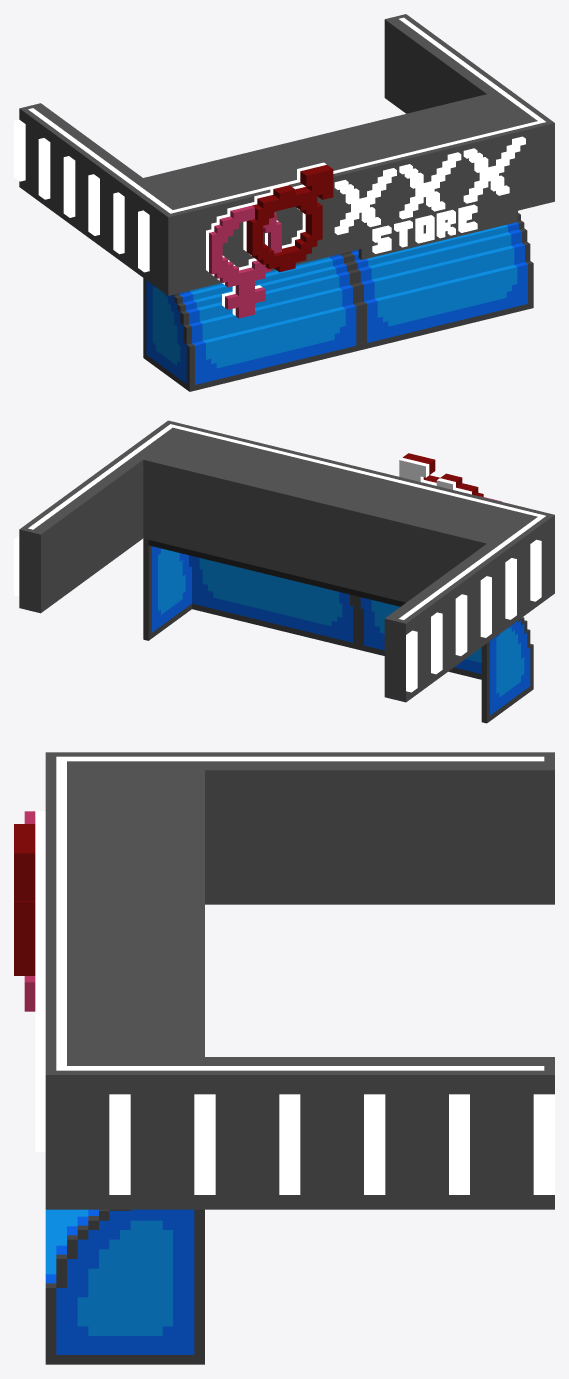
File: adultStore.glb
The picture shows the model from 3 angles, top to bottom: view 1: azimuth 30°, elevation 25°; view 2: azimuth 150°, elevation 25°; view 3: azimuth 270°, elevation 25°; orthographic projection. The views are drawn at different scales.
Visible parts, largest first — view 1: ObjObject; view 2: ObjObject; view 3: ObjObject.
Boxes of the visible parts, x1,y1,x2,y2 form: ObjObject: (14,14,554,391); ObjObject: (14,420,554,723); ObjObject: (14,752,554,1364).
Size of the model in its own units: 7.4 by 3.5 by 5.1.
2 materials, 1 textured.
